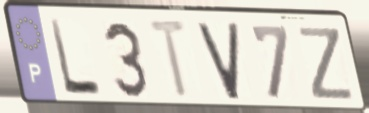3: (101, 17, 152, 101)
7: (249, 22, 293, 103)
L: (47, 17, 105, 99)
T: (145, 17, 193, 103)
V: (194, 20, 243, 103)
Z: (295, 24, 357, 103)
